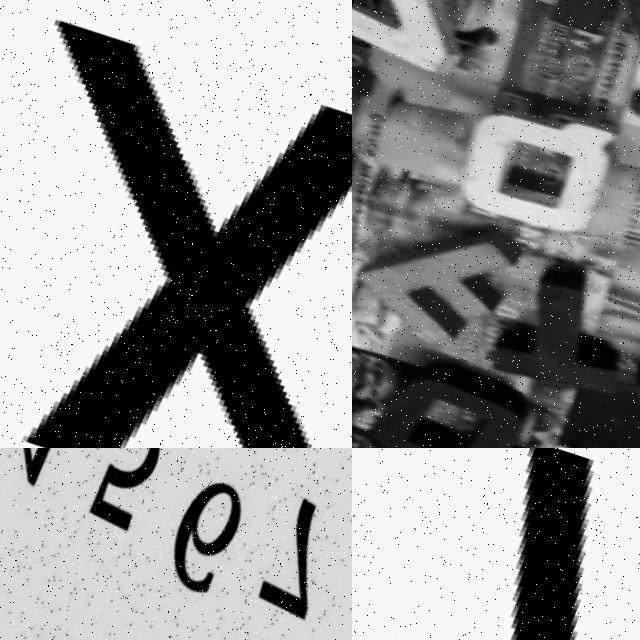4: (0, 448, 113, 508)
5: (63, 448, 203, 553)
6: (143, 460, 282, 622)
7: (236, 483, 352, 640)
F: (352, 202, 550, 360)
I: (352, 448, 640, 640)
O: (377, 349, 554, 448)
Q: (447, 83, 640, 245)
T: (491, 260, 640, 405)
X: (0, 6, 352, 448)
Z: (352, 0, 537, 88)
